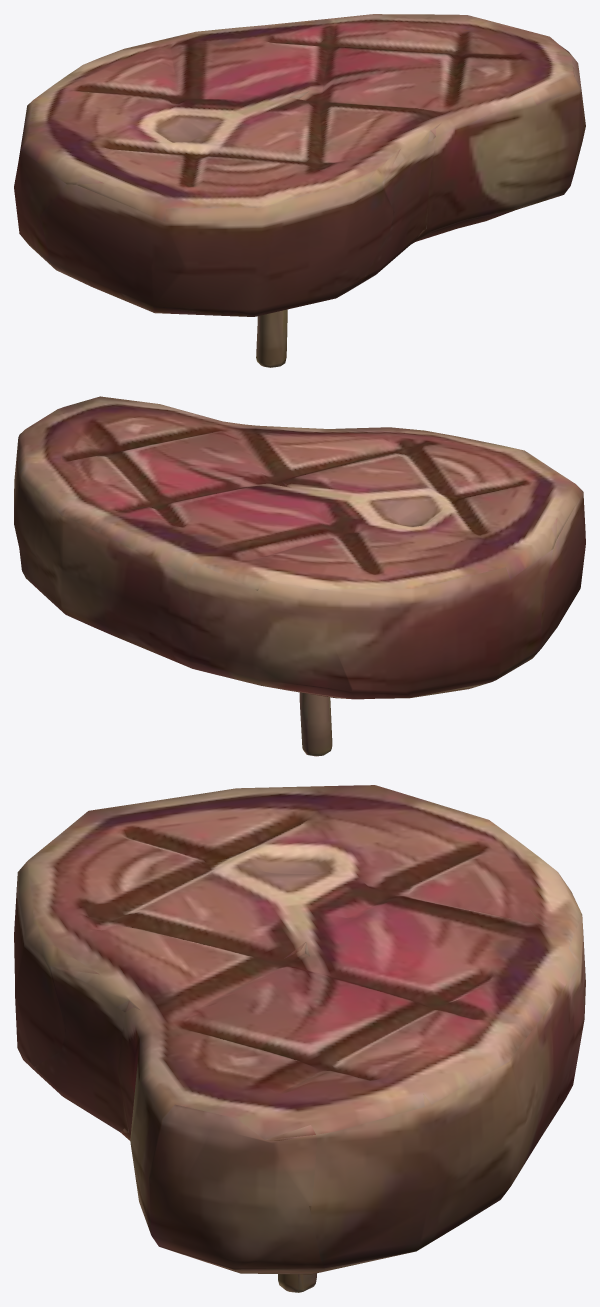
File: cooked_venison.glb
The picture shows the model from 3 angles, top to bottom: view 1: azimuth 30°, elevation 25°; view 2: azimuth 150°, elevation 25°; view 3: azimuth 270°, elevation 25°; orthographic projection. The views are drawn at different scales.
Parts seen in each view (by area): view 1: Mesh1.0; view 2: Mesh1.0; view 3: Mesh1.0.
Boxes of the visible parts, x1,y1,x2,y2 form: Mesh1.0: (14,14,585,367); Mesh1.0: (14,396,585,756); Mesh1.0: (14,785,585,1292).
Bounding box in the file's own units: 1.91 × 0.9102 × 1.31.
Materials: 1 (1 with a texture image).
